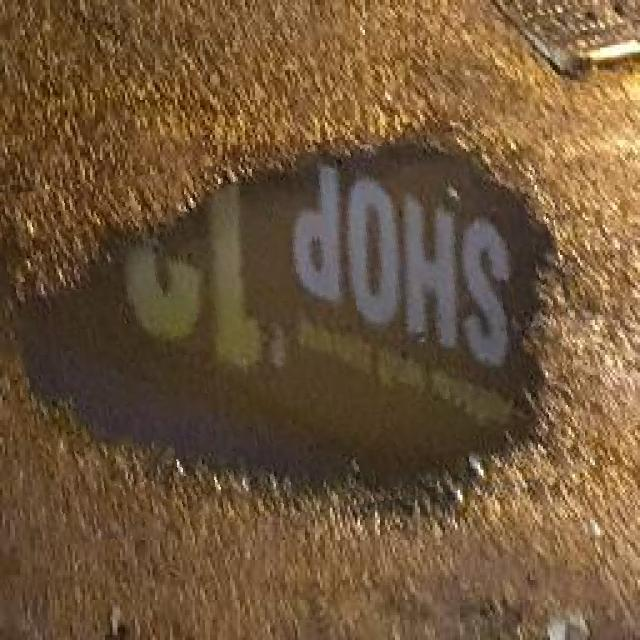puddle: (9, 139, 579, 531)
